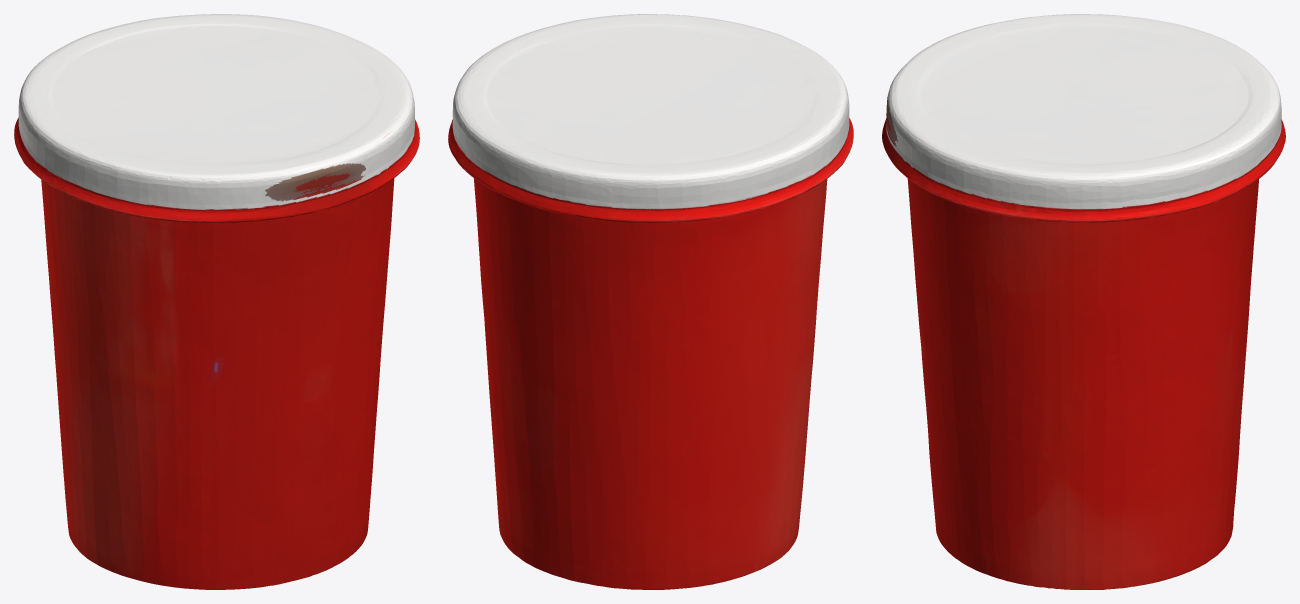
File: container-higgsfield-bright-white.glb
3 views of the same model, side by side, from view 1: azimuth 30°, elevation 25°; view 2: azimuth 150°, elevation 25°; view 3: azimuth 270°, elevation 25° (orthographic).
Parts seen in each view (by area): view 1: world; view 2: world; view 3: world.
Part boxes in pixels (x1,y1,x2,y2): world: [14, 14, 419, 589]; world: [448, 14, 853, 589]; world: [882, 14, 1285, 589].
Size of the model in its own units: 0.848 by 1 by 0.8481.
1 material, 1 textured.
